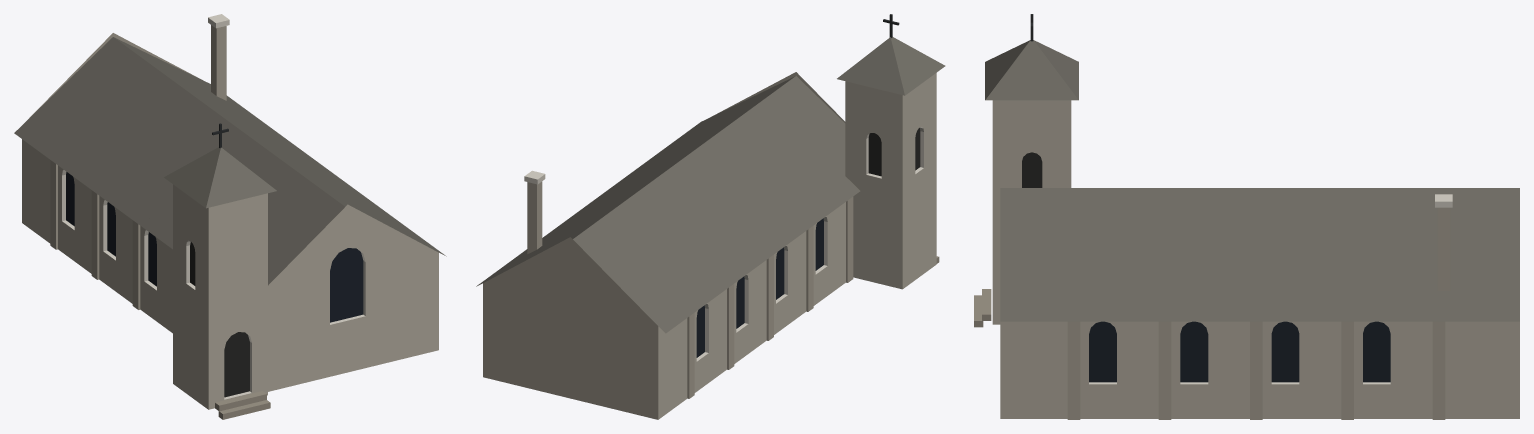
The model's file is first-christian-church-2.glb.
The picture shows the model from 3 angles, left to right: view 1: azimuth 30°, elevation 25°; view 2: azimuth 150°, elevation 25°; view 3: azimuth 270°, elevation 25°; orthographic projection. The views are drawn at different scales.
Visible parts, largest first — view 1: first_brick, first_roof, first_brick2, first_glass, first_dark, first_stone, first_base; view 2: first_roof, first_brick, first_brick2, first_glass, first_stone, first_dark; view 3: first_roof, first_brick, first_brick2, first_glass, first_dark, first_base, first_stone.
Boxes of the visible parts, x1,y1,x2,y2 form: first_brick: (22, 139, 438, 409); first_roof: (14, 37, 446, 285); first_brick2: (29, 25, 226, 309); first_glass: (66, 172, 363, 322); first_dark: (190, 241, 249, 397); first_stone: (62, 14, 365, 399); first_base: (215, 391, 270, 419); first_roof: (476, 37, 945, 333); first_brick: (658, 72, 936, 419); first_brick2: (483, 181, 853, 419); first_glass: (696, 218, 823, 357); first_stone: (524, 127, 923, 361); first_dark: (868, 128, 920, 176); first_roof: (985, 40, 1519, 321); first_brick: (992, 100, 1519, 418); first_brick2: (1067, 207, 1450, 419); first_glass: (1089, 321, 1390, 382); first_dark: (1022, 152, 1042, 187); first_base: (974, 289, 991, 327); first_stone: (1089, 194, 1452, 384).
Bounding box in the file's own units: 12.5 × 13.06 × 21.54.
